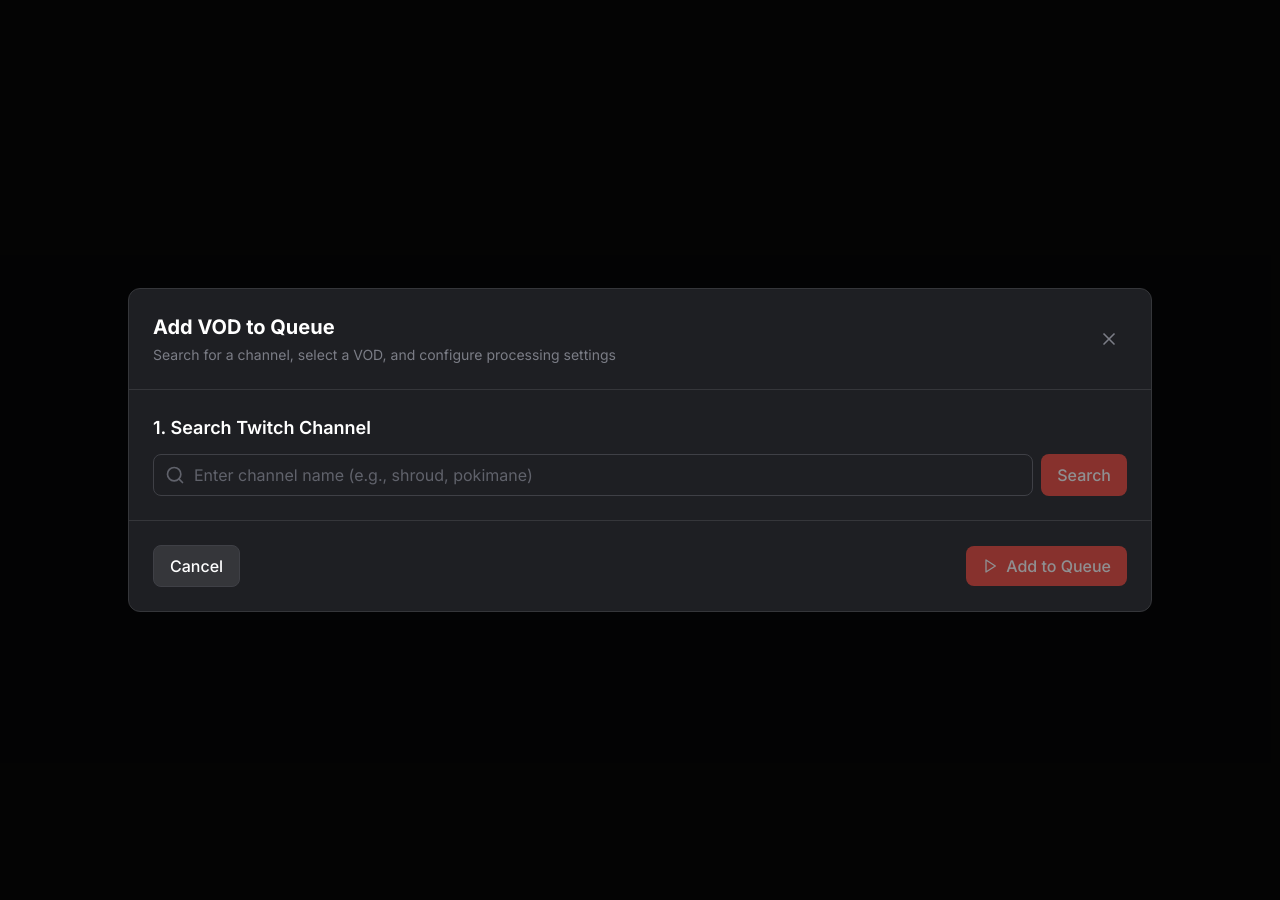
VodBrowserModal › Channel Search › should display error message on API failure
Type "invalidchannel" into the field with placeholder "Enter channel name (e.g., shroud, pokimane)" at (593, 475), box top-left (153, 454), bottom-right (1033, 496)
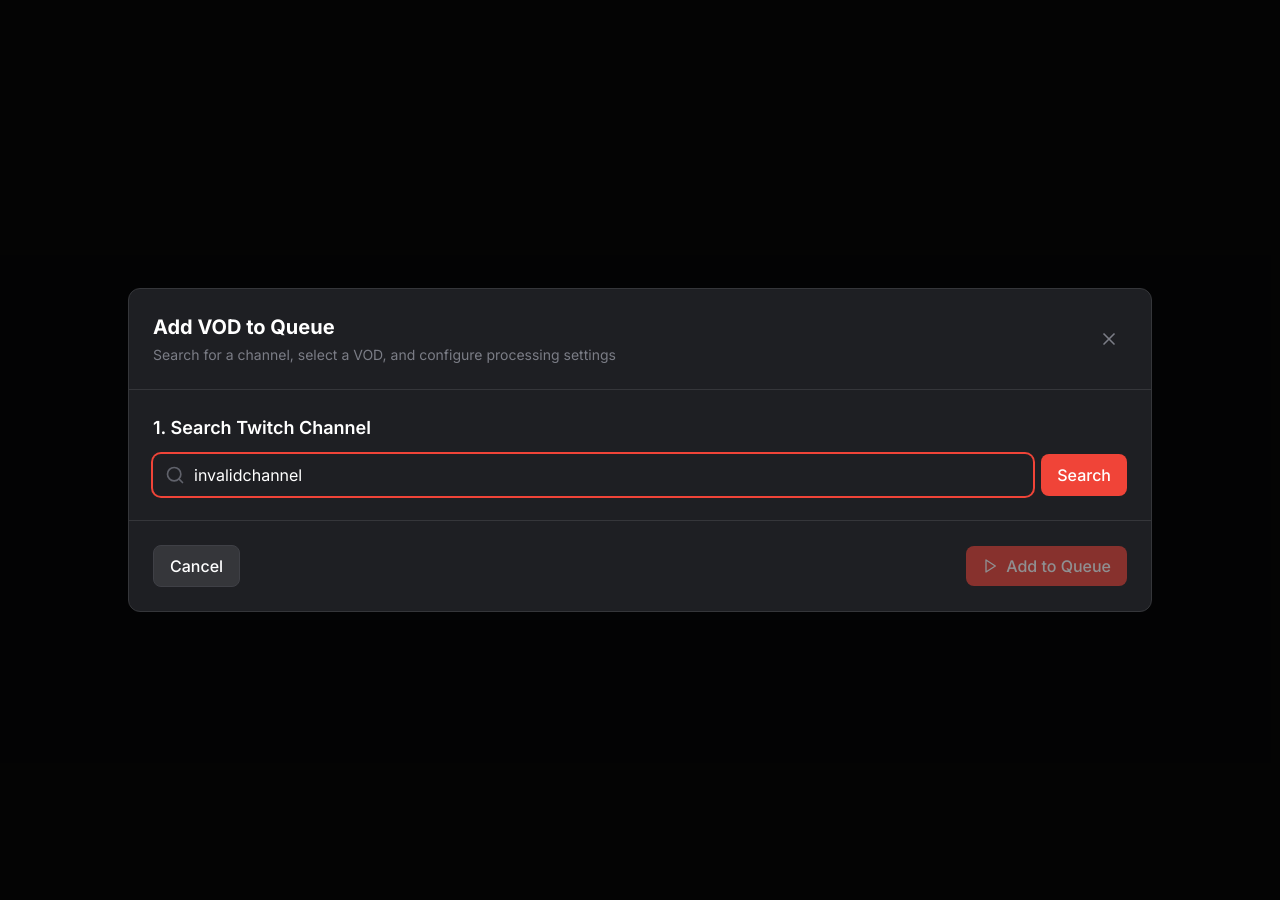
Click the button "Search" at (1084, 475), box top-left (1041, 454), bottom-right (1127, 496)
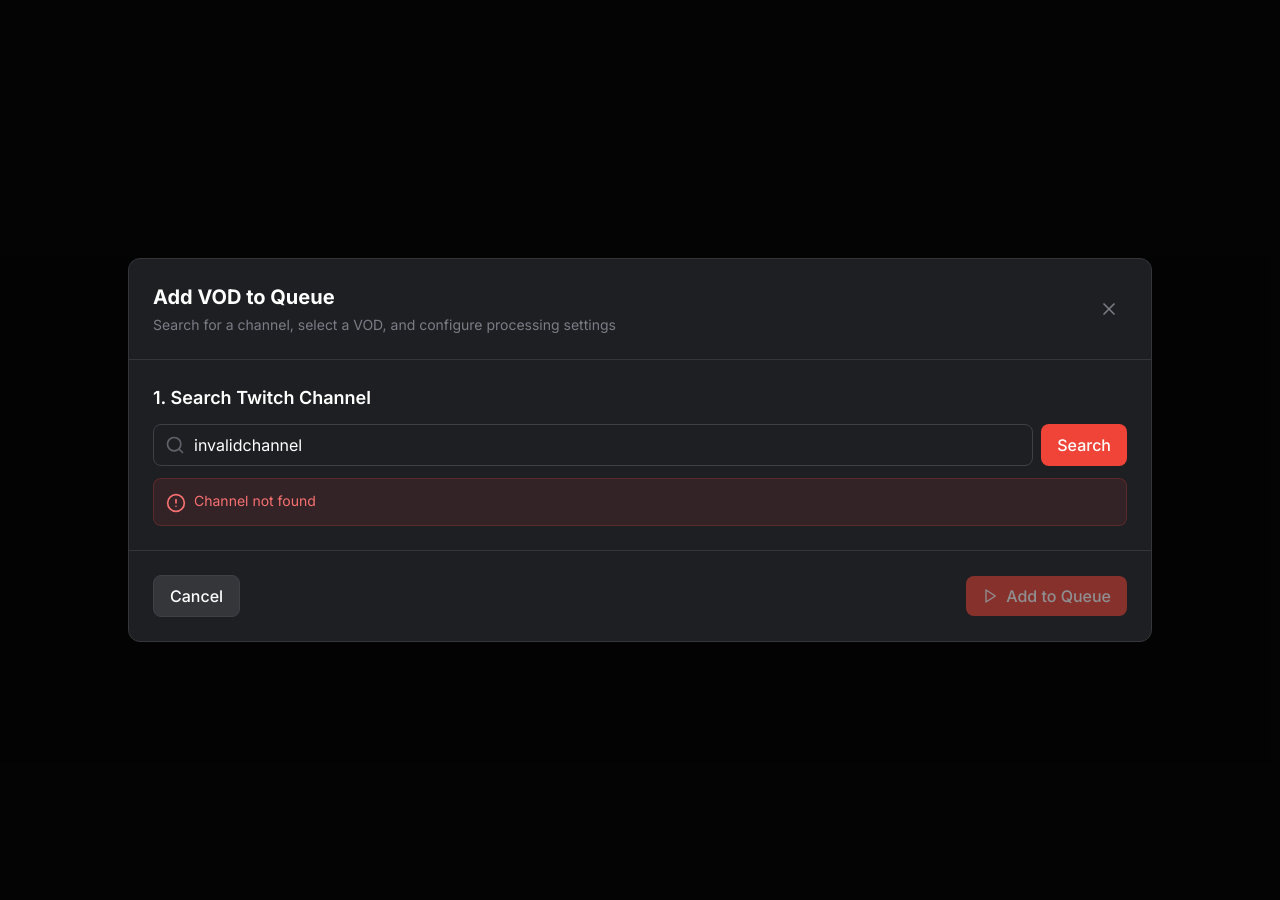
Expected: the text "Channel not found" is shown, top-left (194, 491), bottom-right (316, 511)
